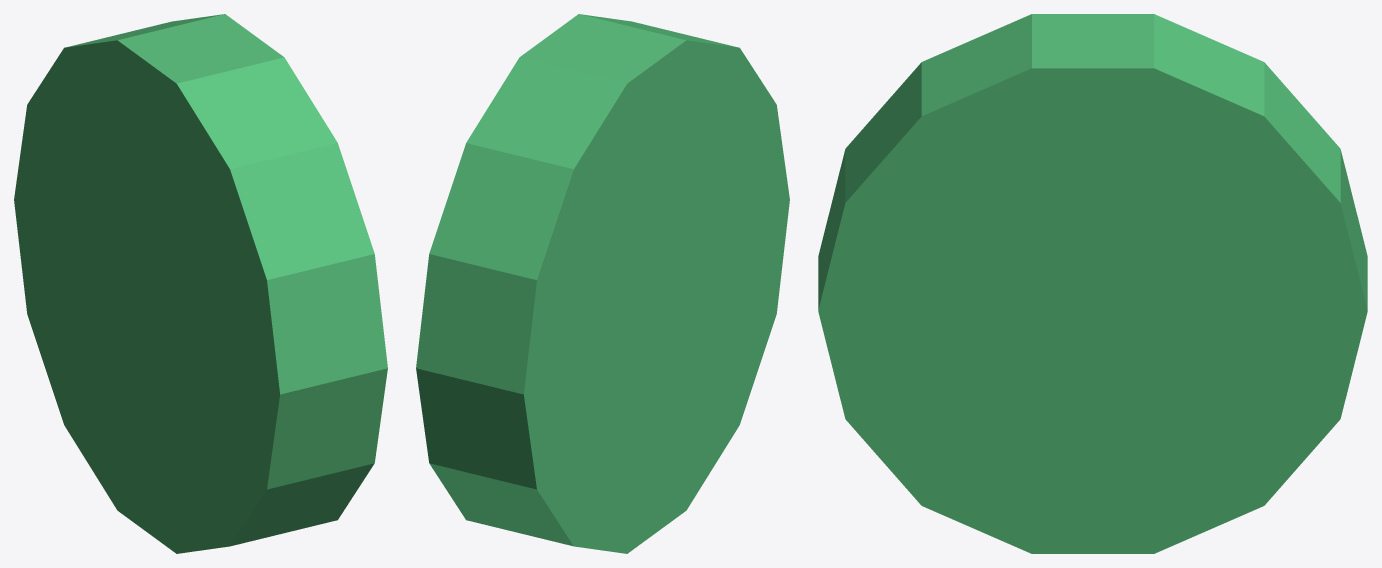
File: BackLeftWheel.obj
The picture shows the model from 3 angles, left to right: view 1: azimuth 30°, elevation 25°; view 2: azimuth 150°, elevation 25°; view 3: azimuth 270°, elevation 25°; orthographic projection. The views are drawn at different scales.
Parts seen in each view (by area): view 1: Back_Left_Wheel; view 2: Back_Left_Wheel; view 3: Back_Left_Wheel.
Part boxes in pixels (<box>): Back_Left_Wheel: <box>14,14,387,553</box>; Back_Left_Wheel: <box>416,14,789,553</box>; Back_Left_Wheel: <box>818,14,1367,553</box>.
Bounding box in the file's own units: 0.0396 × 0.1651 × 0.1693.
